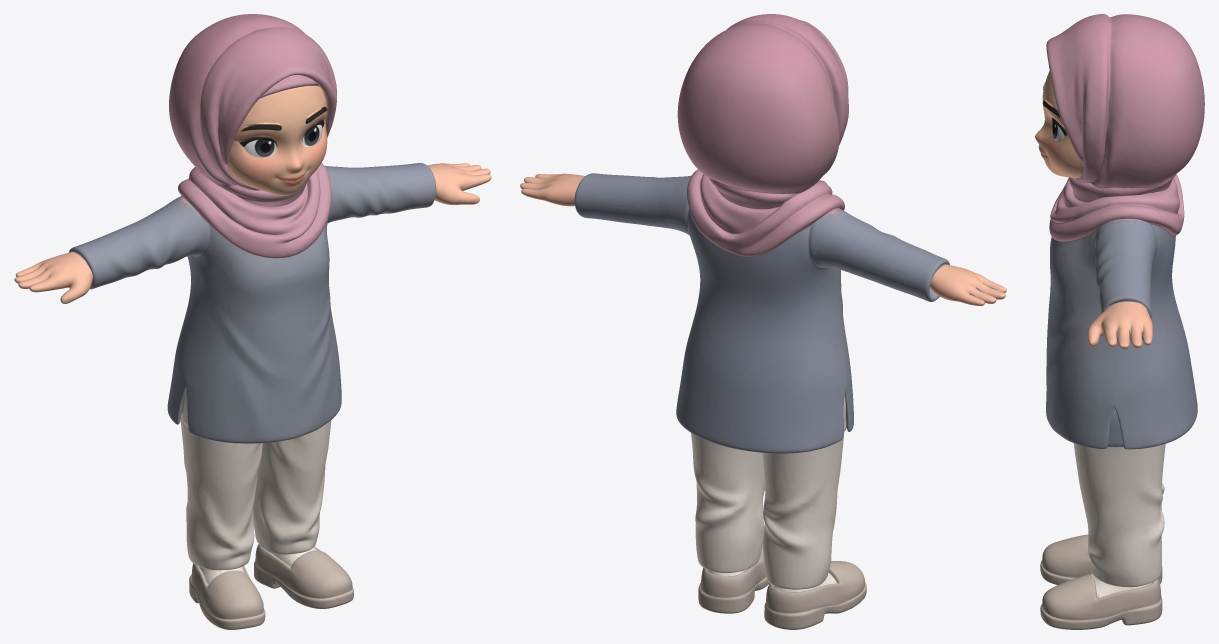
File: Meshy_AI_Amina_in_Pastel_Pose_20261030_texture.fbx
3 views of the same model, side by side, from view 1: azimuth 30°, elevation 25°; view 2: azimuth 150°, elevation 25°; view 3: azimuth 270°, elevation 25° (orthographic). The views are drawn at different scales.
Visible parts, largest first — view 1: Mesh_0; view 2: Mesh_0; view 3: Mesh_0.
Part boxes in pixels (bbox=[...]): Mesh_0: bbox=[14, 14, 491, 629]; Mesh_0: bbox=[520, 14, 1006, 629]; Mesh_0: bbox=[1035, 14, 1204, 629].
Bounding box in the file's own units: 165 × 190 × 50.81.
1 material, 1 textured.
